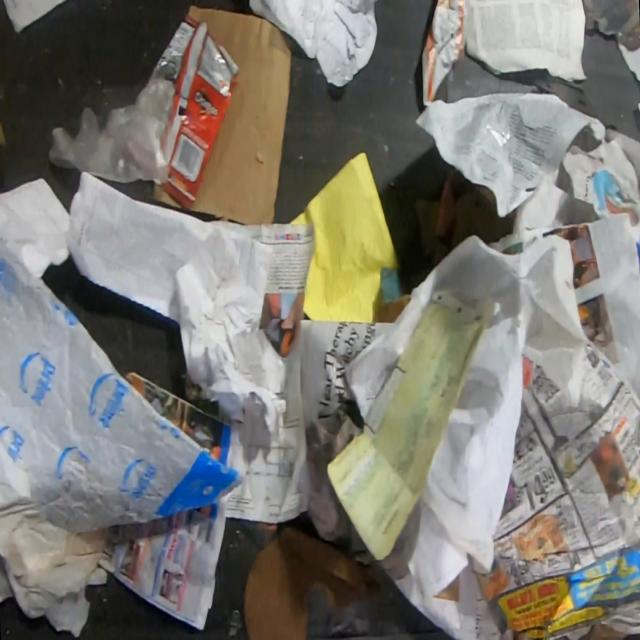cardboard: (186, 3, 293, 225), (414, 166, 516, 267)
soft_plastic: (0, 228, 247, 533), (147, 13, 239, 210), (47, 78, 176, 185)
